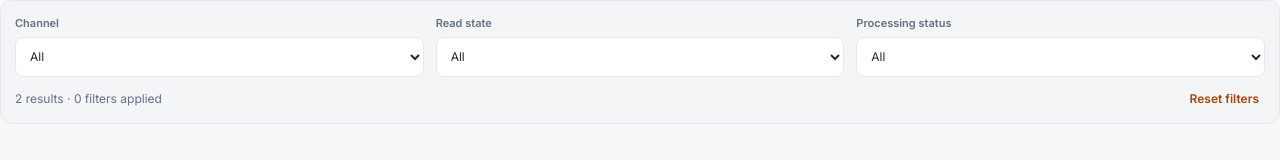
Test: offers labelled filters and resets combined conditions
Select "Telegram" in the dropdown labelled "Channel" at (219, 56), box [15,36,424,76]
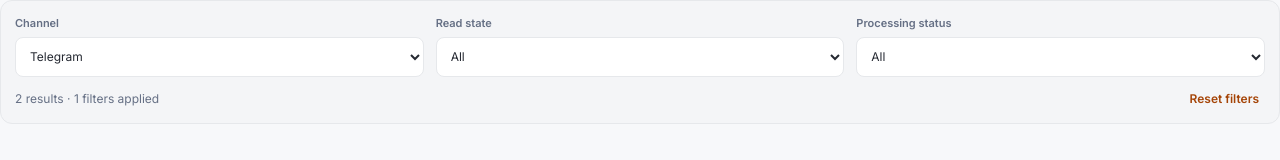
Check: the message shows "1 filters applied", box [15,90,159,108]
Click the button "Reset filters" at (1224, 98), box [1184,88,1265,108]
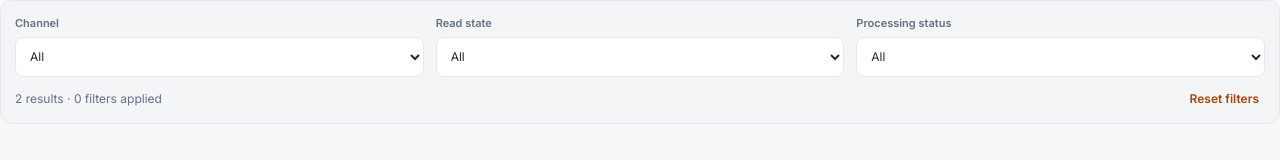
Check: the message shows "0 filters applied", box [15,90,162,108]
